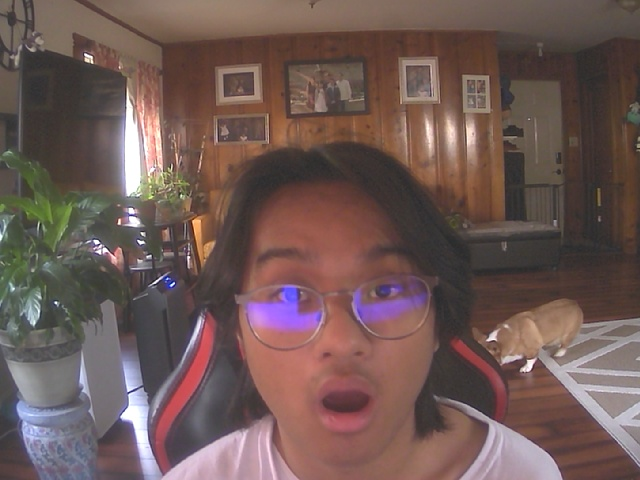fear: (223, 150, 461, 471)
